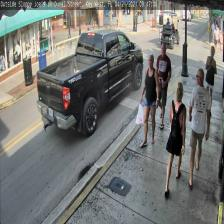person: (188, 68, 210, 187), (164, 82, 186, 197), (202, 46, 216, 116)
